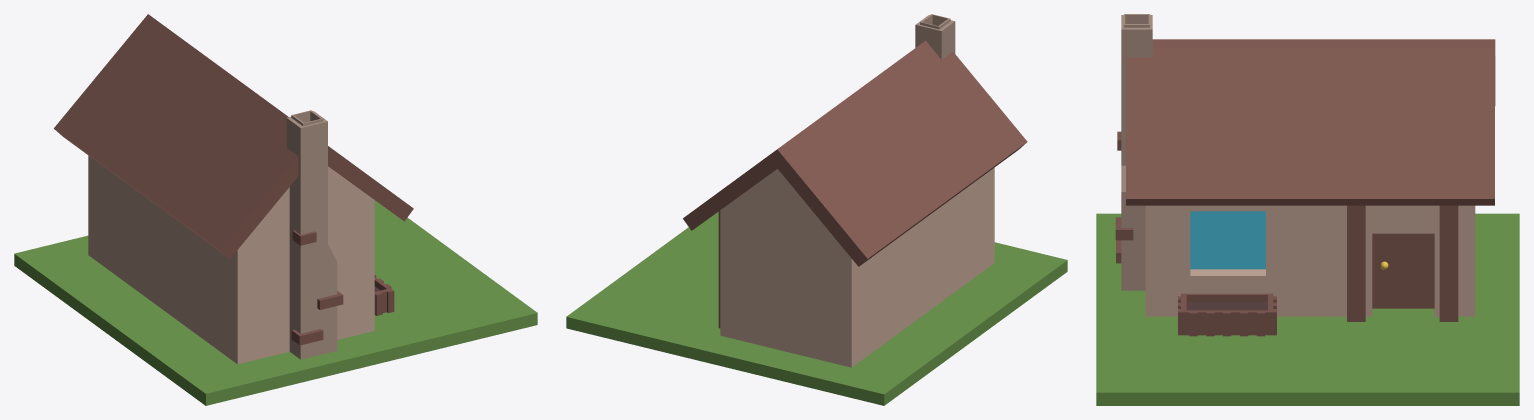
Rendered from casa-1.glb.
3 views of the same model, side by side, from view 1: azimuth 30°, elevation 25°; view 2: azimuth 150°, elevation 25°; view 3: azimuth 270°, elevation 25° (orthographic). The views are drawn at different scales.
Visible parts, largest first — view 1: Cubo.002, Cube, Cubo, Cubo.003, Cubo.005; view 2: Cubo, Cubo.002, Cube, Cubo.003; view 3: Cubo.002, Cube, Cubo, Cubo.005, Cubo.003, Cubo.004, Cubo.001.
Boxes of the visible parts, x1,y1,x2,y2 form: Cubo.002: [54, 14, 413, 258]; Cube: [14, 200, 537, 405]; Cubo: [88, 155, 374, 364]; Cubo.003: [286, 110, 337, 359]; Cubo.005: [374, 275, 394, 315]; Cubo: [720, 167, 994, 367]; Cubo.002: [683, 40, 1027, 266]; Cube: [566, 211, 1067, 405]; Cubo.003: [915, 14, 955, 59]; Cubo.002: [1126, 39, 1495, 205]; Cube: [1096, 213, 1519, 405]; Cubo: [1145, 205, 1475, 316]; Cubo.005: [1178, 293, 1276, 336]; Cubo.003: [1121, 14, 1152, 290]; Cubo.004: [1439, 205, 1458, 321]; Cubo.001: [1347, 205, 1365, 321].
Size of the model in its own units: 6.17 by 4.38 by 6.17.
